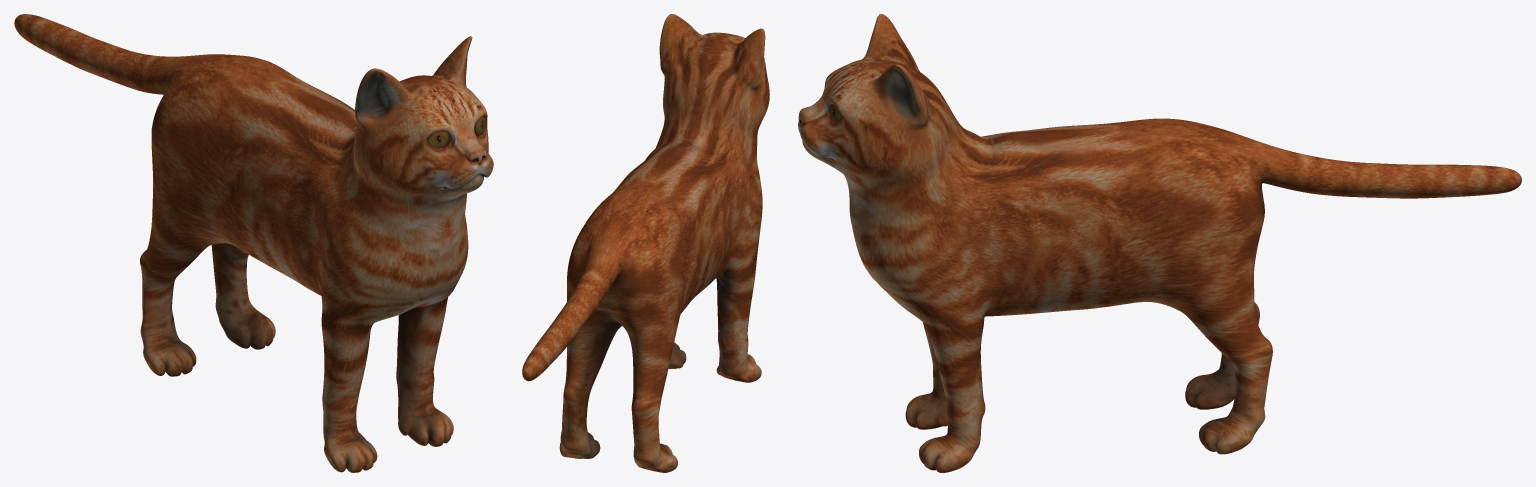
Rendered from cat.glb.
3 views of the same model, side by side, from view 1: azimuth 30°, elevation 25°; view 2: azimuth 150°, elevation 25°; view 3: azimuth 270°, elevation 25° (orthographic). The views are drawn at different scales.
Parts seen in each view (by area): view 1: 12221_Cat_v1_l3; view 2: 12221_Cat_v1_l3; view 3: 12221_Cat_v1_l3.
Part boxes in pixels (x1,y1,x2,y2): 12221_Cat_v1_l3: (14, 14, 493, 472); 12221_Cat_v1_l3: (522, 14, 769, 472); 12221_Cat_v1_l3: (798, 14, 1521, 472).
Size of the model in its own units: 15.82 by 37.63 by 60.32.
1 material, 1 textured.
